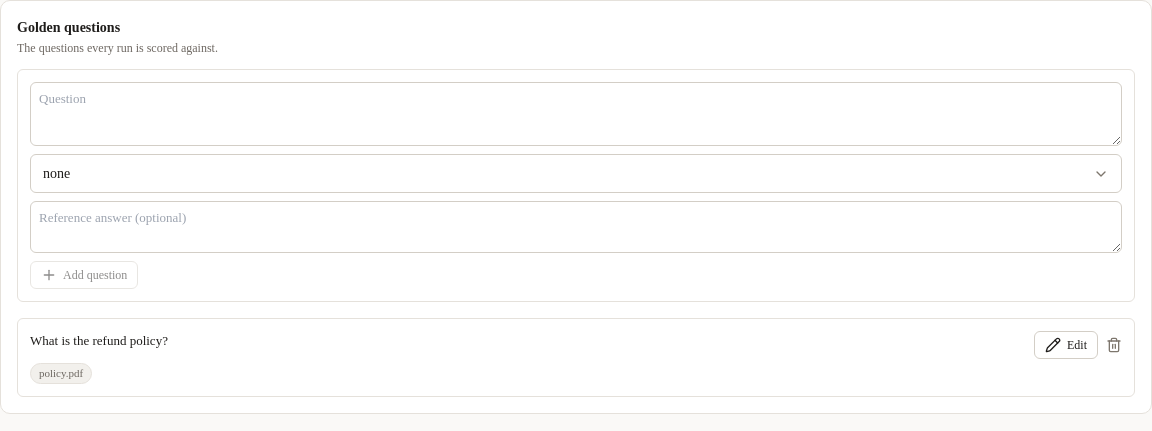
Test: QuestionsManager › only offers documents (not images) in the expected-documents picker
The image size is (1152, 431).
Expected: the text "What is the refund policy?" is shown, [30,331,168,350]
Click the button with aria-label "Expected documents": click(57, 174) [30,154,1122,193]
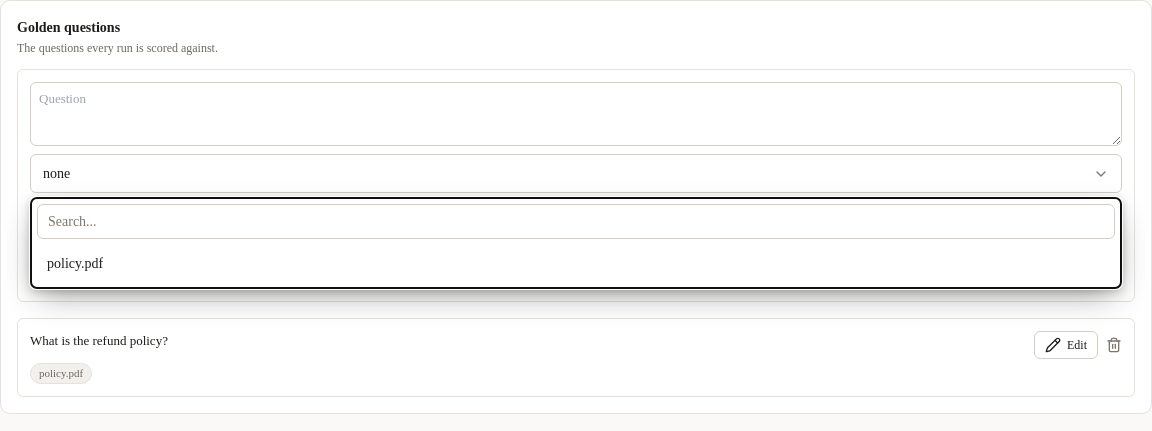
Expected: the option "policy.pdf" is shown, [47,256,103,271]
